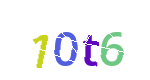0: (34, 0, 114, 80)
1: (1, 0, 81, 80)
6: (69, 0, 149, 80)
T: (34, 0, 114, 80)
